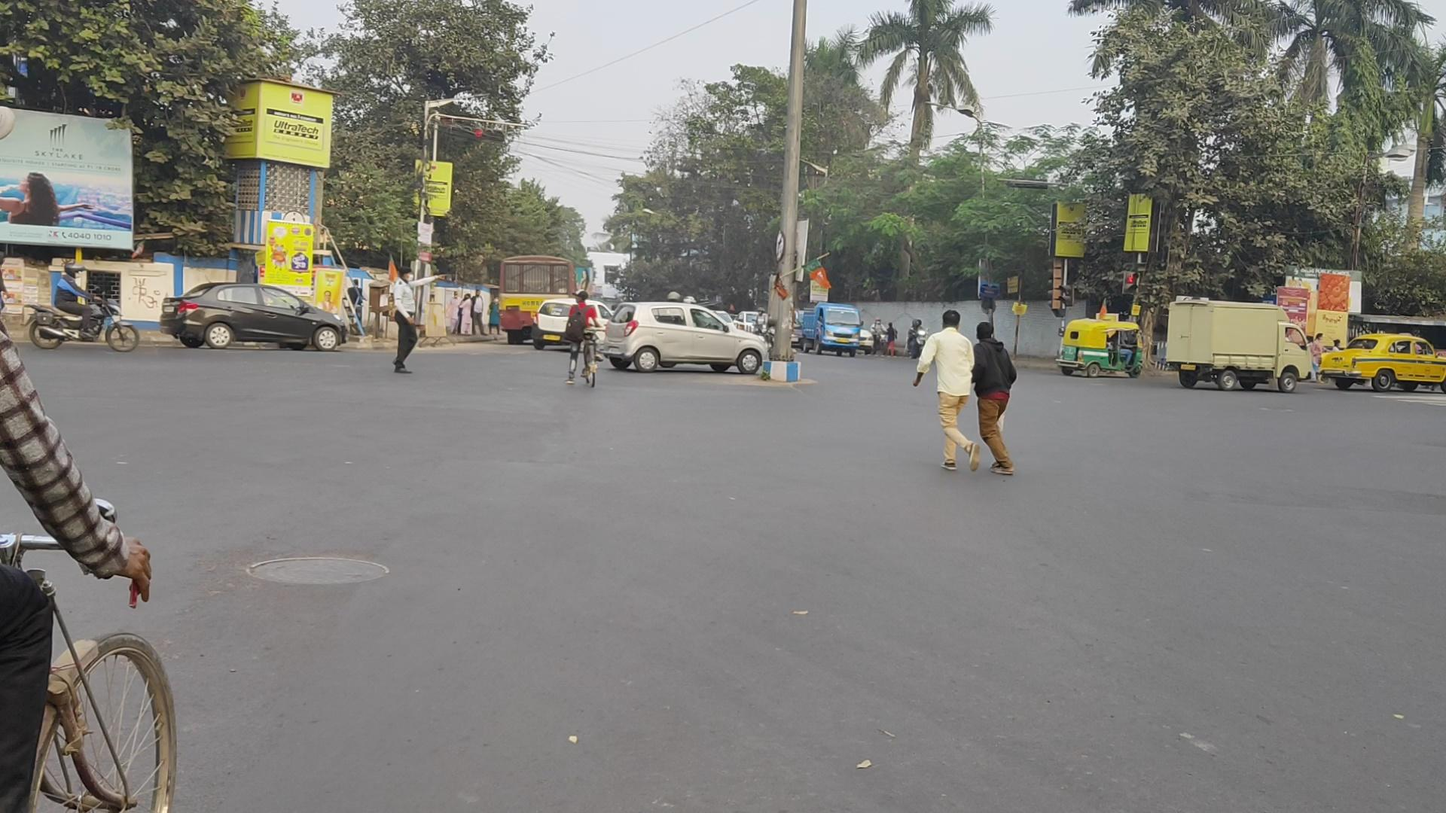Auto: (1056, 318, 1144, 378)
Bus: (498, 254, 577, 344)
bike: (26, 265, 140, 352), (566, 289, 603, 388), (905, 318, 929, 360), (871, 317, 889, 355), (752, 307, 768, 346)
car: (160, 282, 348, 352), (603, 301, 766, 375), (1316, 333, 1446, 392), (530, 297, 621, 350)
van: (1166, 300, 1312, 393), (802, 303, 864, 357)
